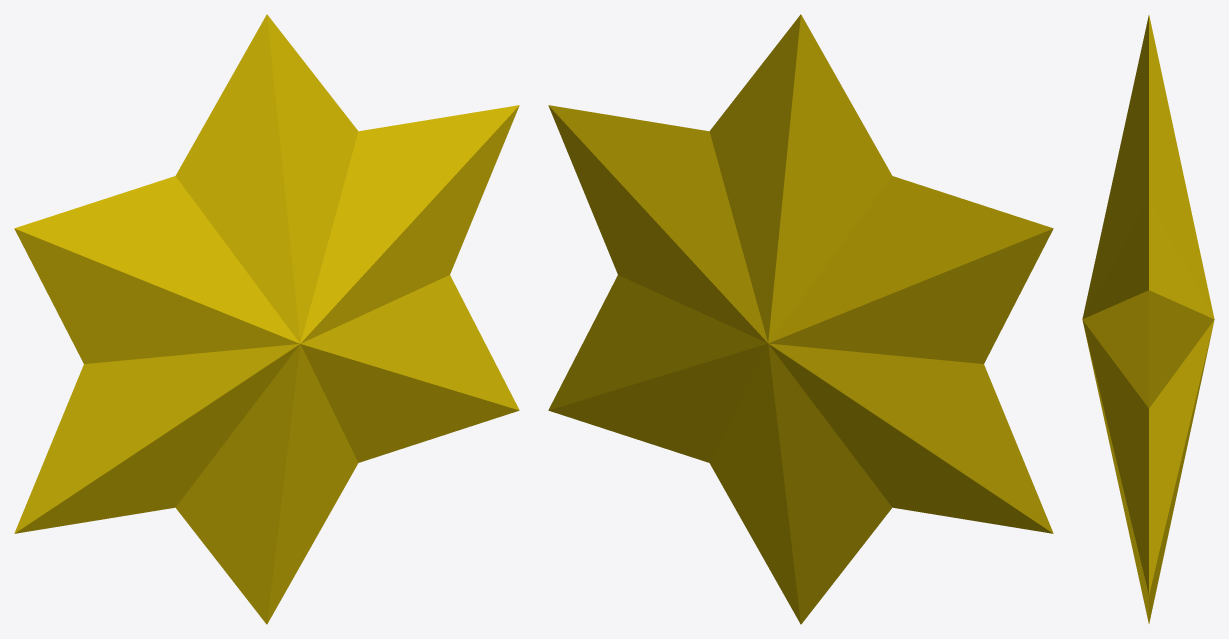
Rendered from star_6.fbx.
3 views of the same model, side by side, from view 1: azimuth 30°, elevation 25°; view 2: azimuth 150°, elevation 25°; view 3: azimuth 270°, elevation 25° (orthographic).
Visible parts, largest first — view 1: Circle; view 2: Circle; view 3: Circle.
Part boxes in pixels (box(x1,y1,x2,y2)): Circle: box(14, 14, 519, 624); Circle: box(548, 14, 1053, 624); Circle: box(1082, 15, 1214, 623).
Size of the model in its own units: 173 by 200 by 39.23.
